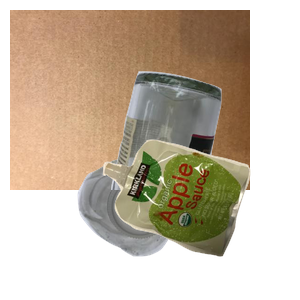cardboard: (10, 10, 250, 190)
glass: (109, 69, 300, 249)
plastic: (75, 154, 248, 300)
trash: (100, 137, 300, 300)
